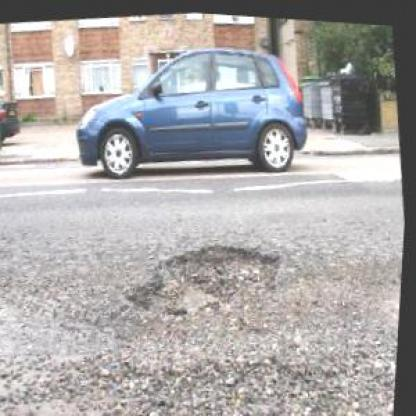pothole: (124, 226, 292, 327)
